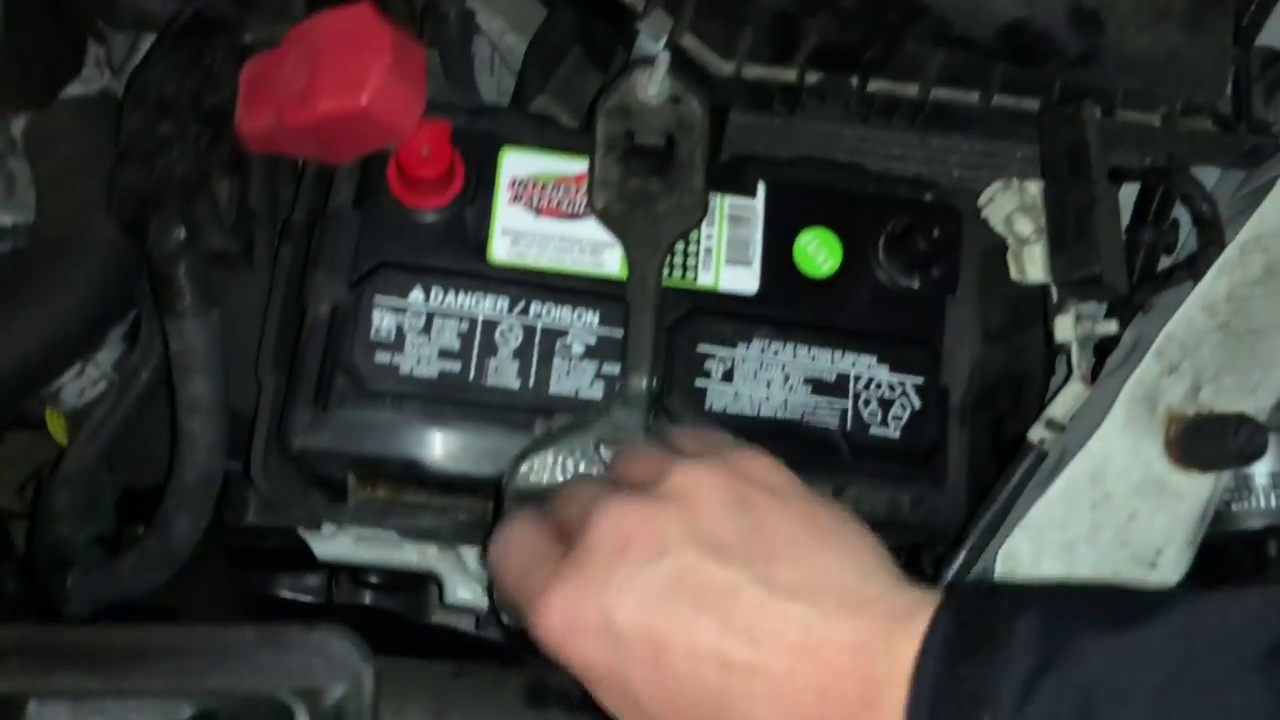battery: (324, 94, 967, 523)
